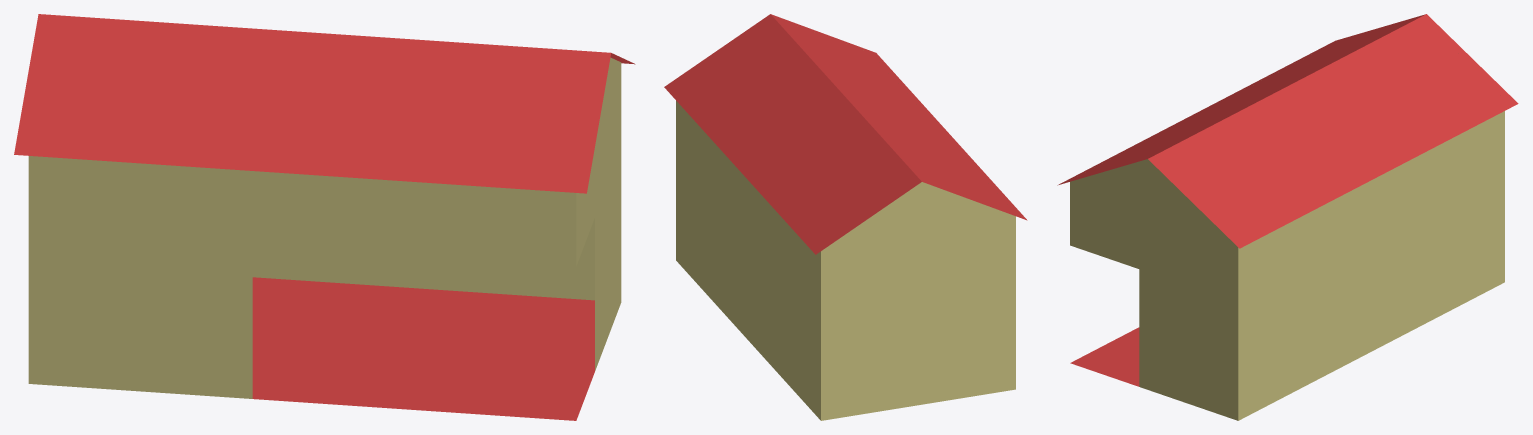
The picture shows the model from 3 angles, left to right: view 1: azimuth 30°, elevation 25°; view 2: azimuth 150°, elevation 25°; view 3: azimuth 270°, elevation 25°; orthographic projection. The views are drawn at different scales.
Size of the model in its own units: 25.44 by 23.89 by 13.46.
